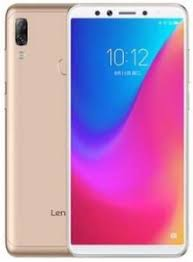lenovo: (1, 1, 192, 262), (66, 1, 183, 254)
